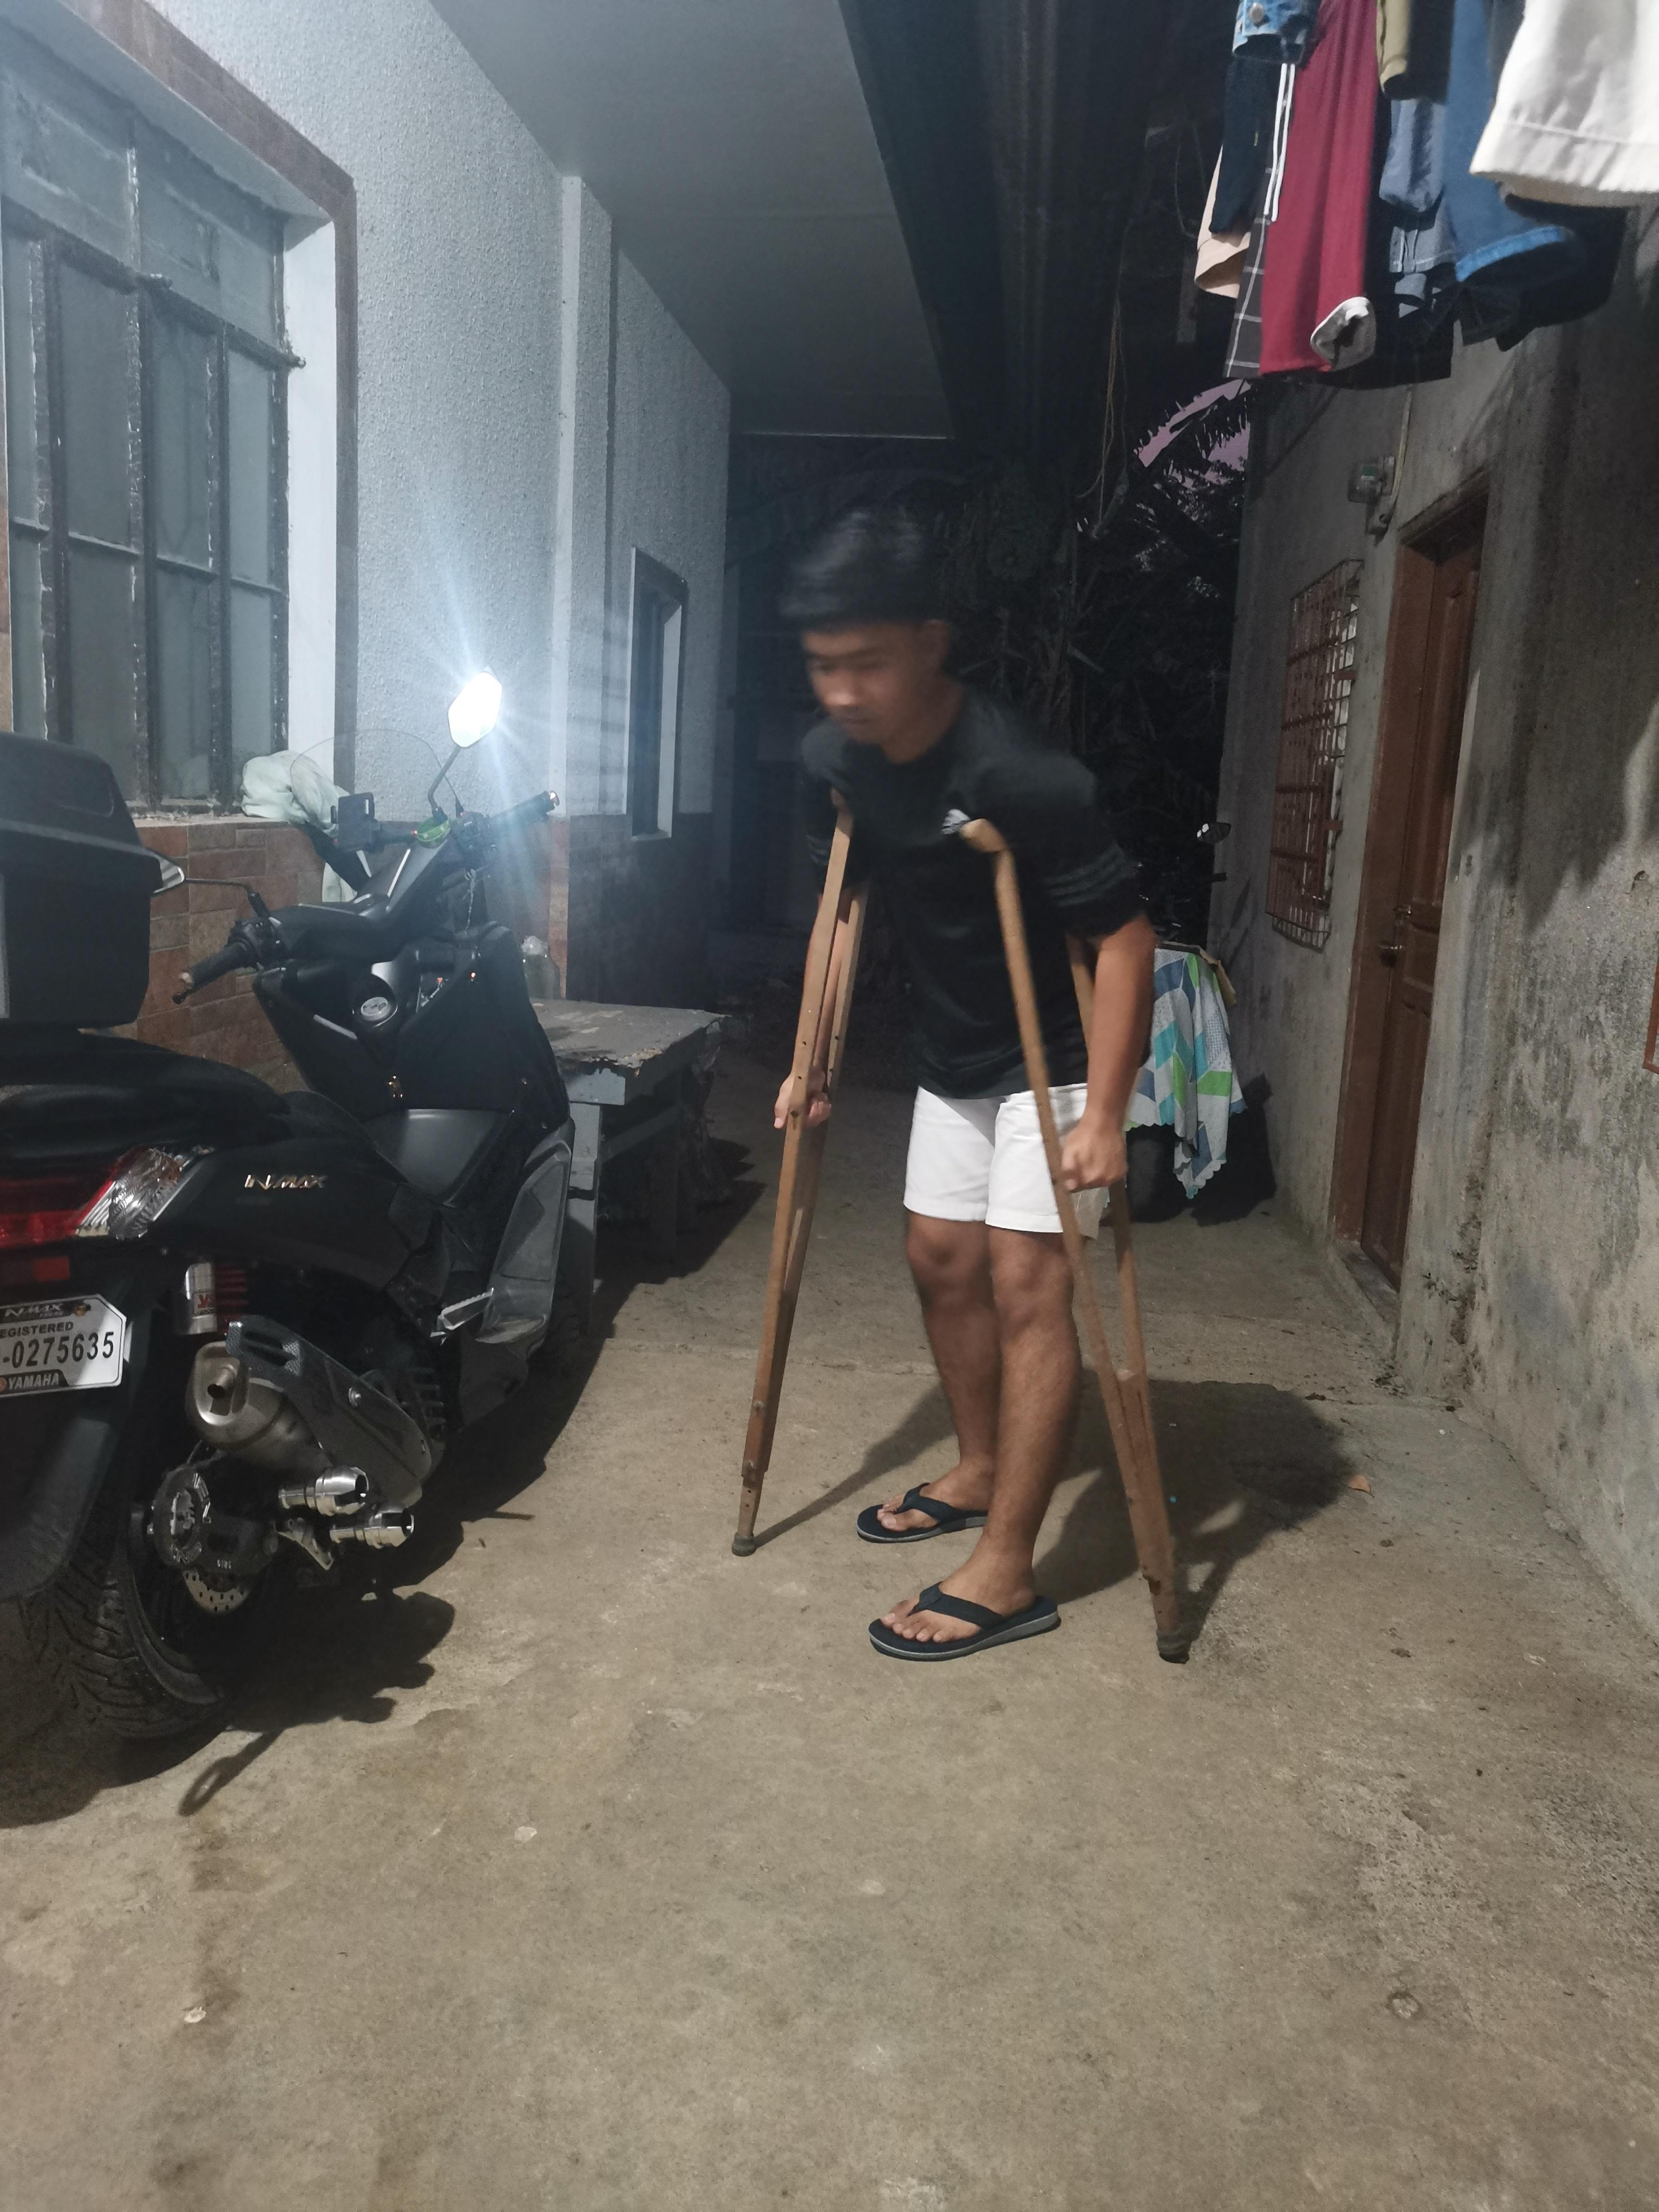crutches: (732, 514, 1195, 1669)
